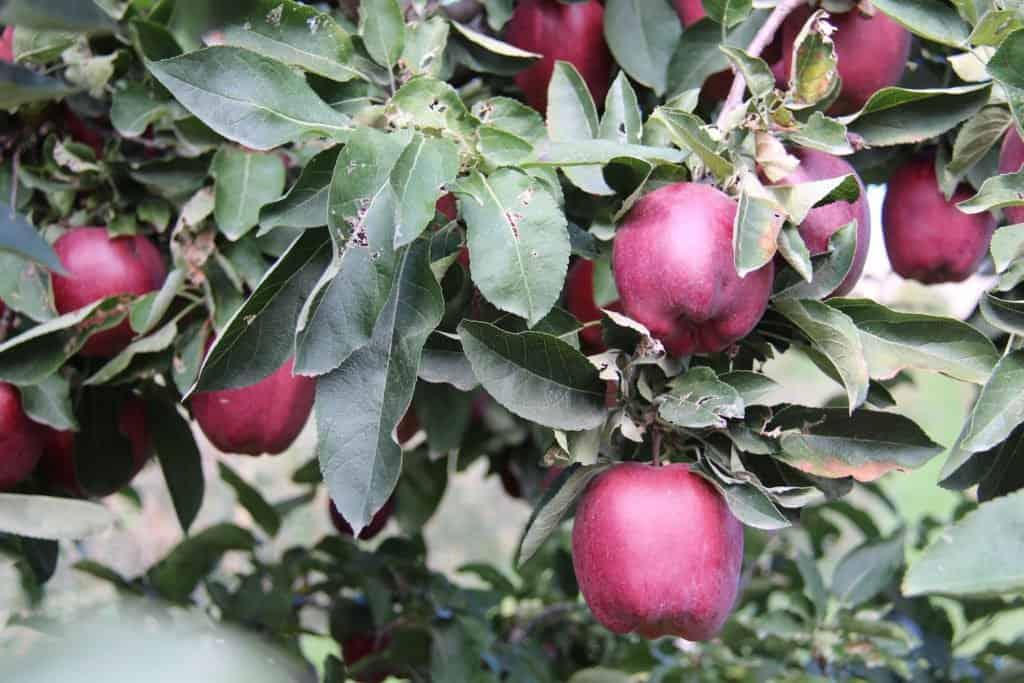apple: (569, 463, 743, 643), (608, 181, 767, 351), (757, 144, 873, 301), (781, 2, 911, 118), (879, 161, 997, 287), (196, 333, 315, 456), (44, 226, 162, 315)
